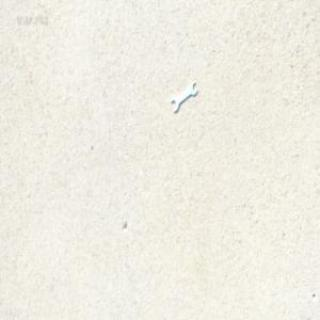Wrenchtrack_idkeyframe: (170, 82, 196, 112)
